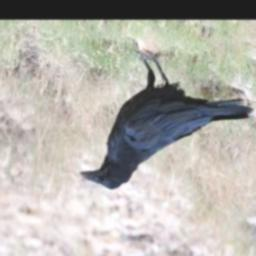Crow: (77, 44, 255, 191)
